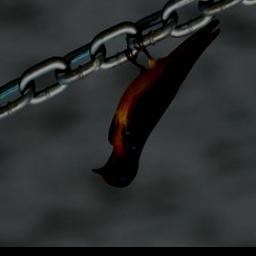Swallow: (90, 16, 220, 189)
